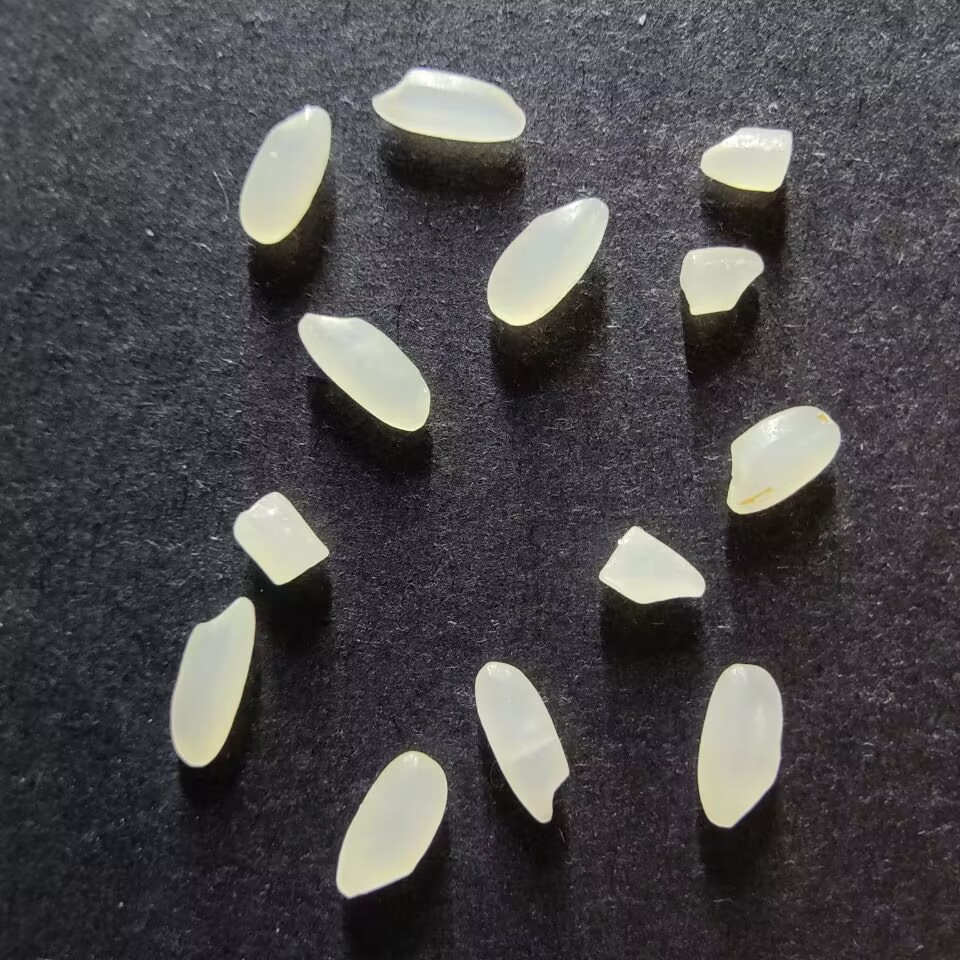broken: (232, 491, 329, 585), (597, 525, 706, 605), (677, 246, 765, 316), (699, 127, 793, 192)
rice: (335, 750, 449, 899), (296, 312, 430, 432), (485, 197, 608, 326), (474, 660, 570, 824), (169, 596, 256, 767), (696, 662, 783, 828), (238, 105, 331, 244), (725, 405, 840, 515), (370, 68, 526, 143)
